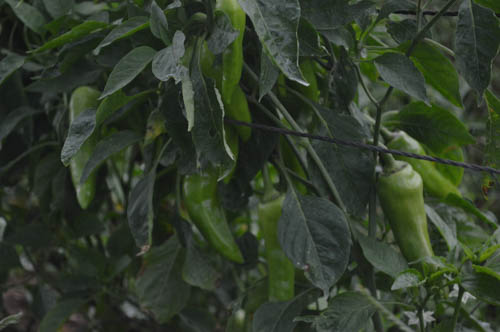ChiliPepper: (378, 159, 439, 280), (386, 130, 471, 208), (188, 36, 253, 138), (179, 168, 246, 264), (59, 85, 105, 212), (253, 194, 297, 308), (211, 2, 253, 106)
